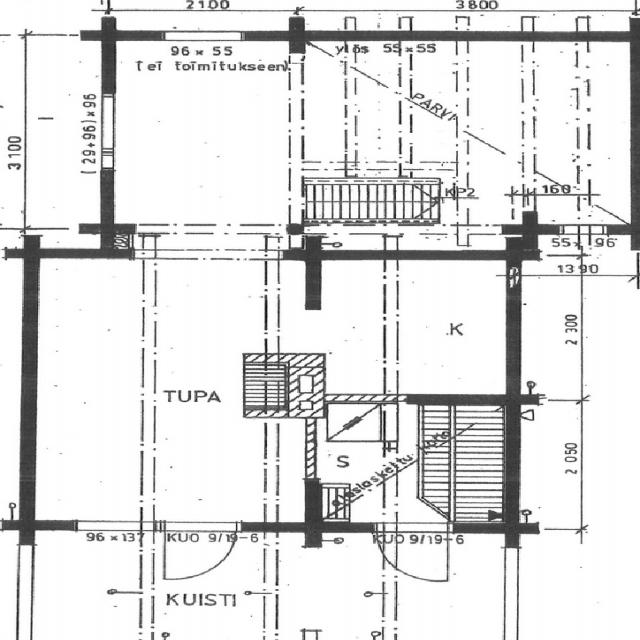door: (162, 520, 240, 584), (375, 520, 448, 582)
